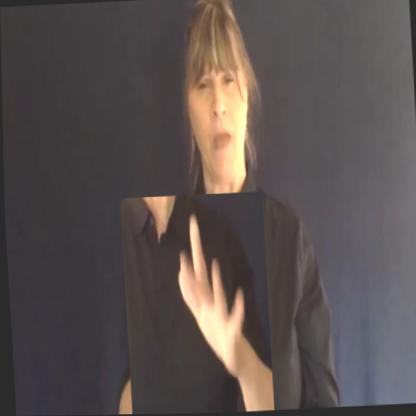Expensive: (118, 192, 272, 415)
